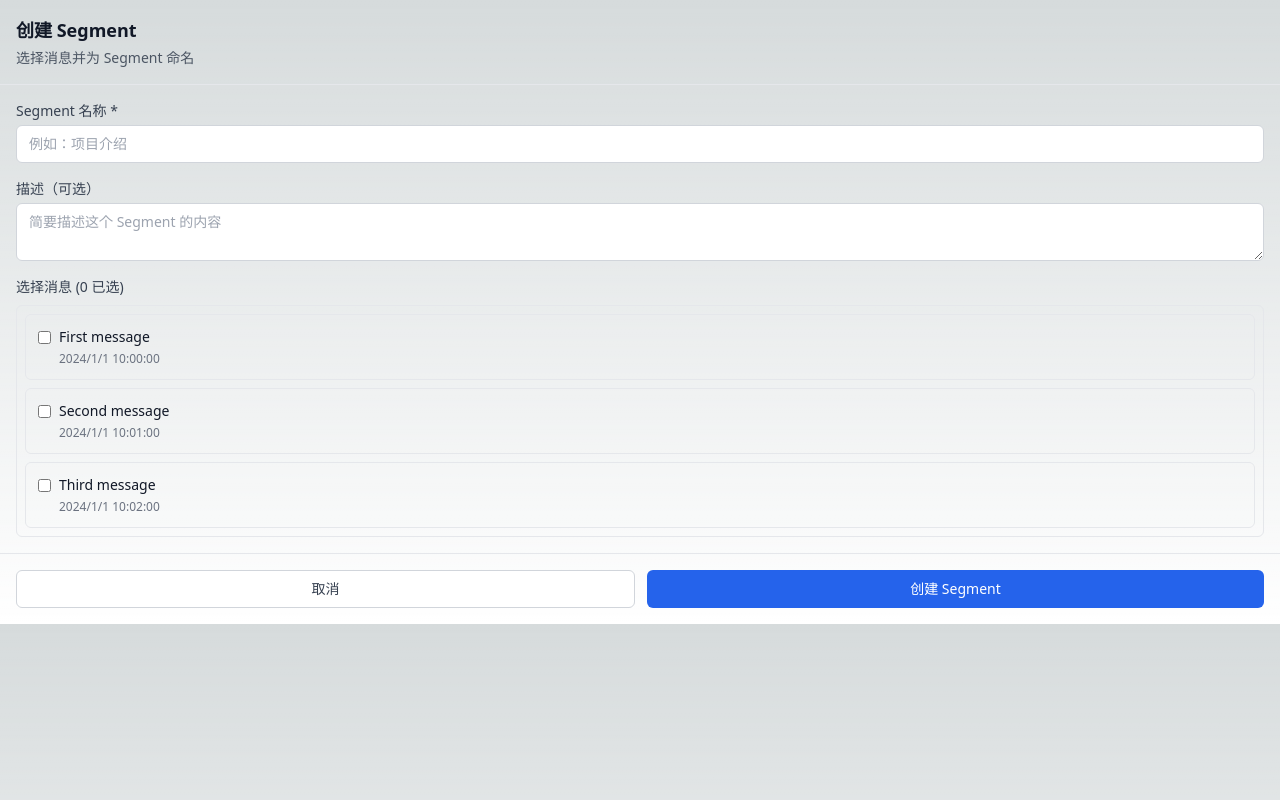
SegmentCreator Component › should show error when no messages selected
Enter name but don't select messages
Type "Test Segment" into the field labelled "Segment 名称 *" at (640, 144), box [16, 125, 1264, 163]
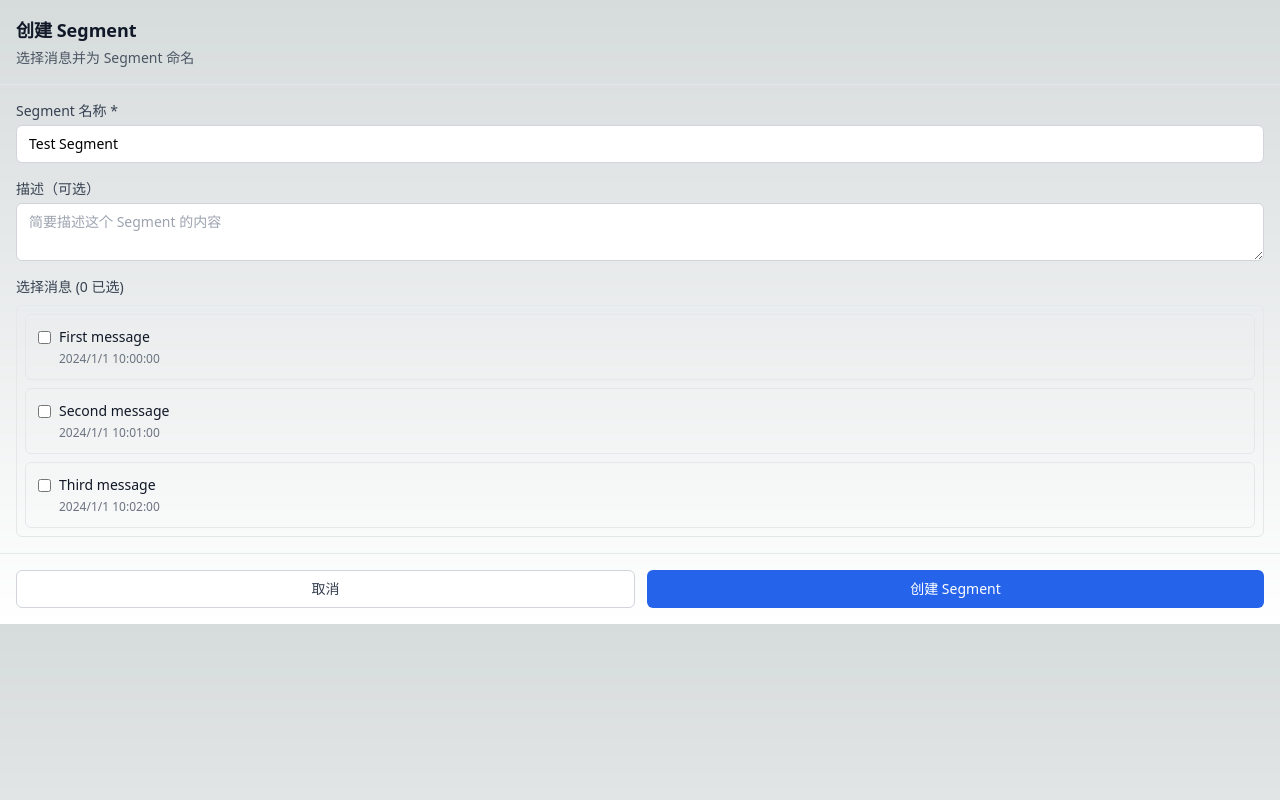
Click create
Click the button "创建 Segment" at (956, 589), box [647, 570, 1264, 608]
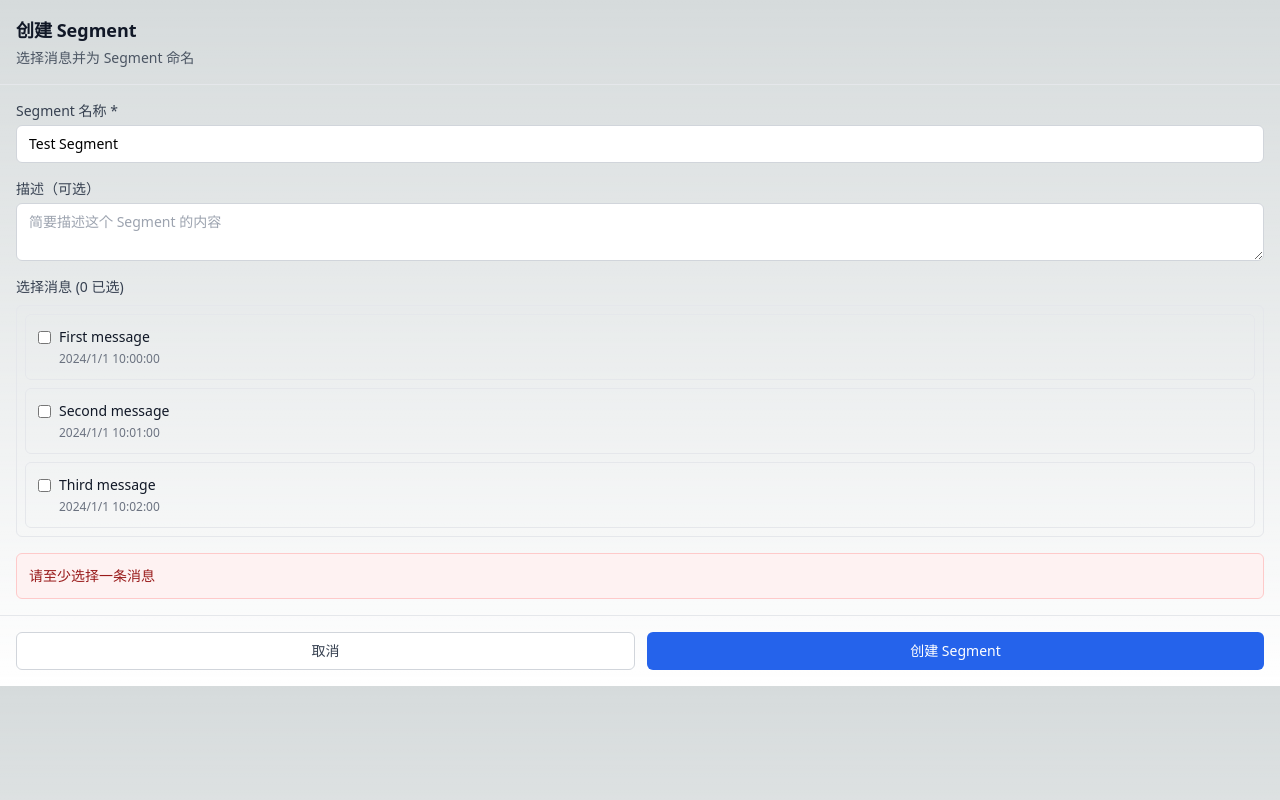
Now the text "请至少选择一条消息" is shown, box [29, 566, 155, 585]
